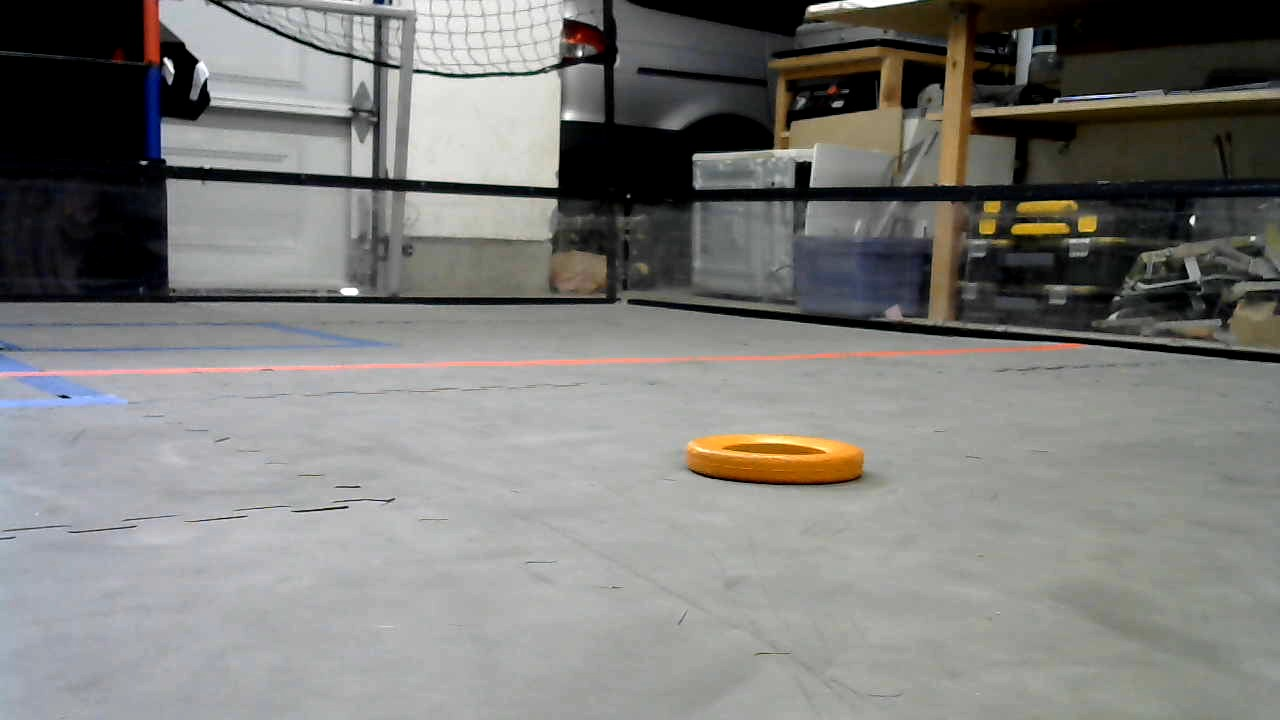OneStack: (687, 434, 864, 483)
